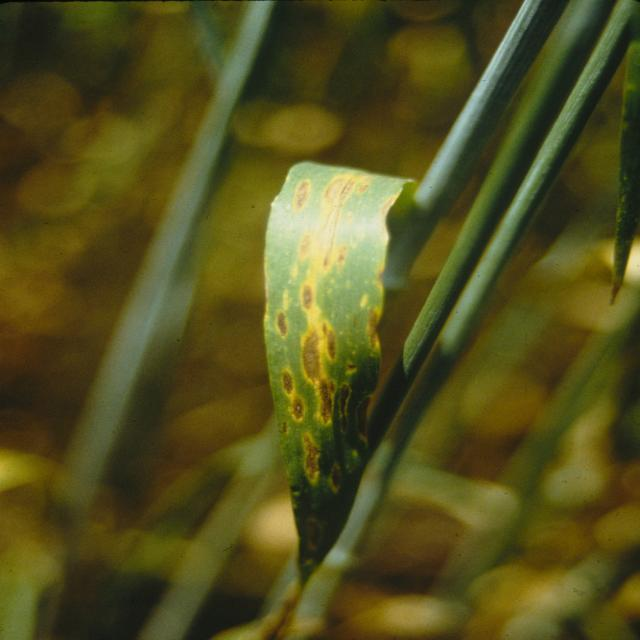Septoria: (262, 161, 414, 633)
